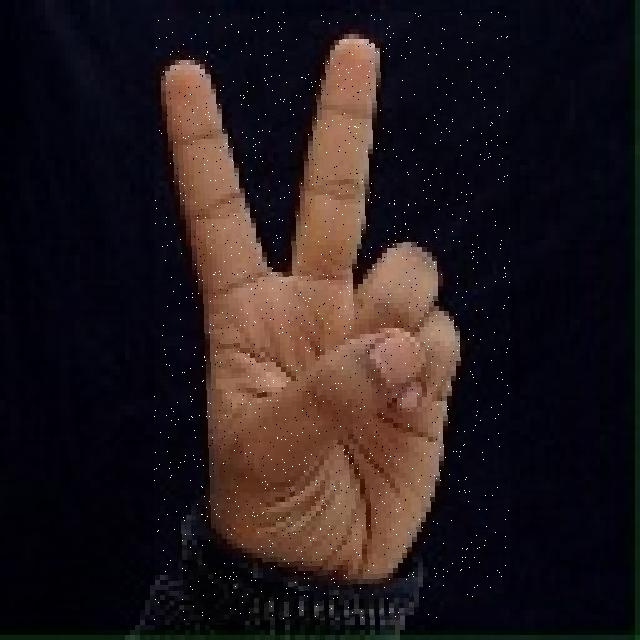No: (154, 12, 510, 621)
